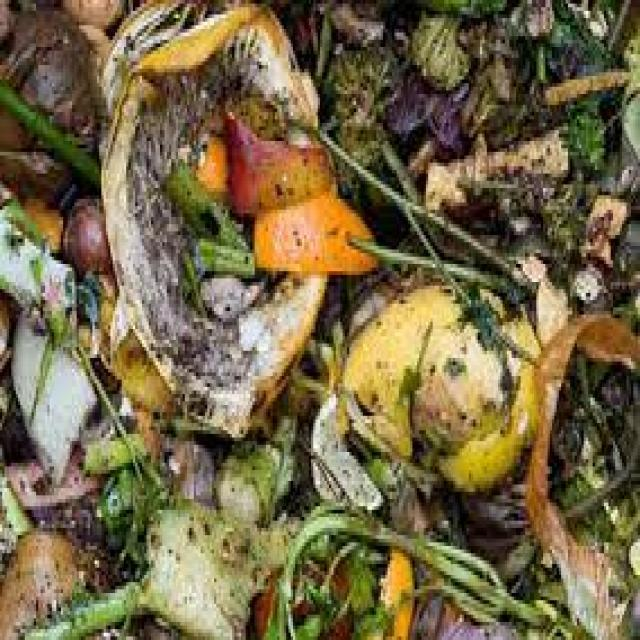Wet: (0, 0, 638, 640), (344, 268, 550, 484), (273, 495, 556, 640), (214, 97, 382, 300), (130, 484, 270, 640), (331, 34, 484, 174), (58, 181, 139, 282)
